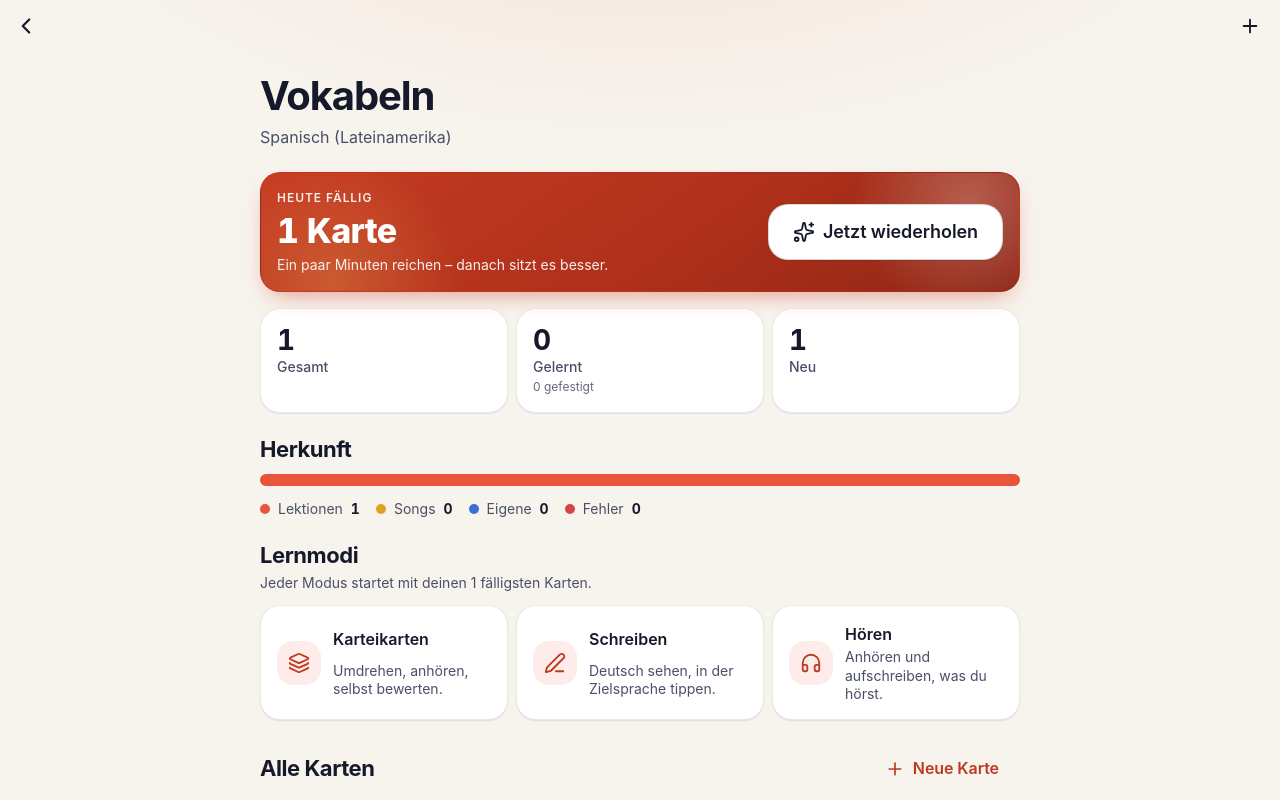
Scenario: Vokabeltrainer (Smoke) › Schreiben-Modus bewertet die Eingabe
Click the text "Schreiben".
click(628, 639)  # box [589,629,667,649]
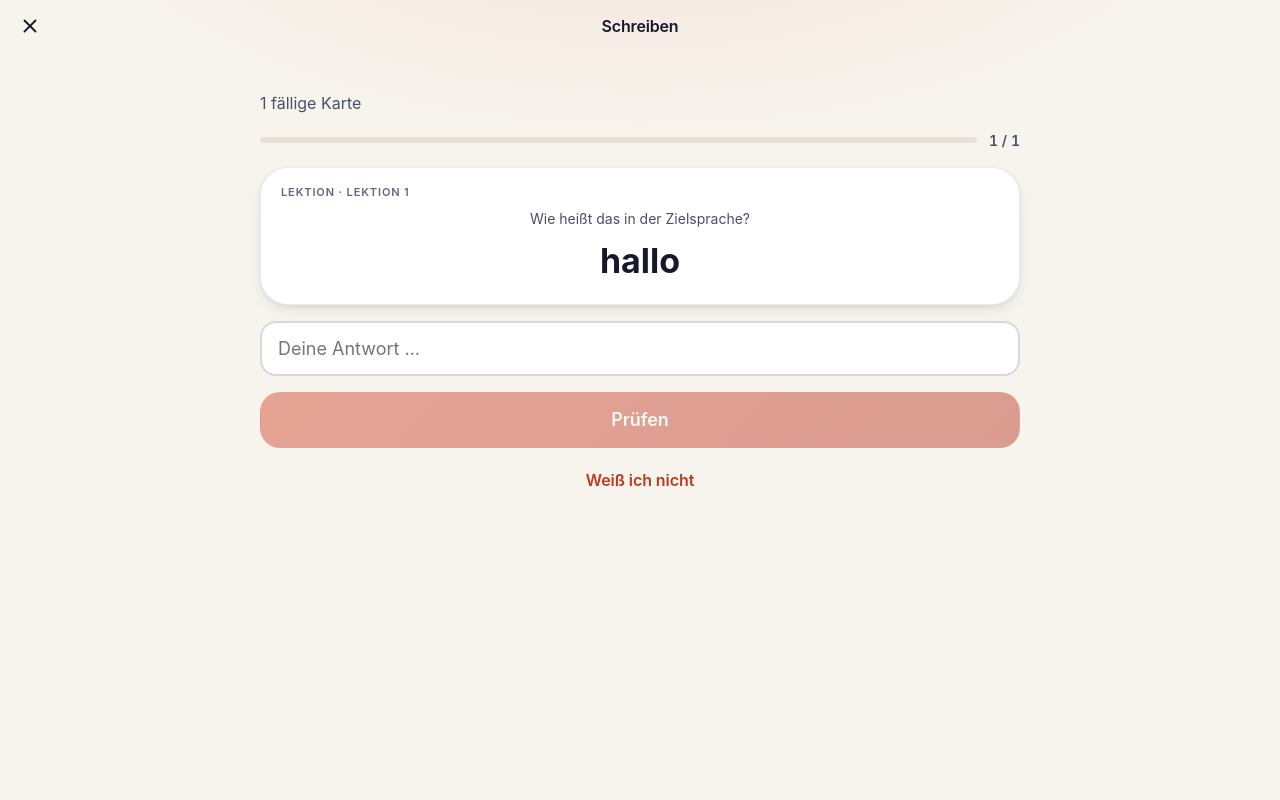
Type "hola" into the field with placeholder "Deine Antwort …".
click(640, 348); type("hola")  # box [260,321,1020,376]
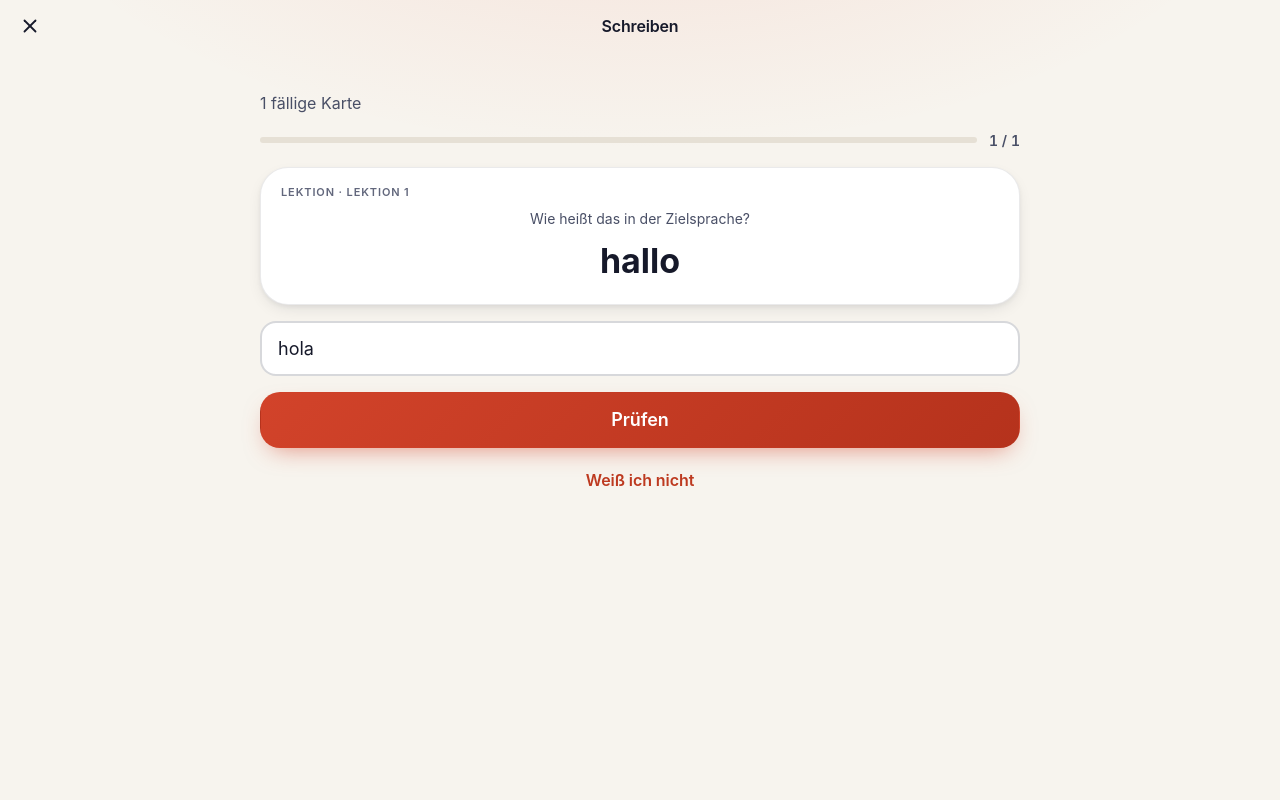
Press Enter in the field with placeholder "Deine Antwort …", box [260,321,1020,376]
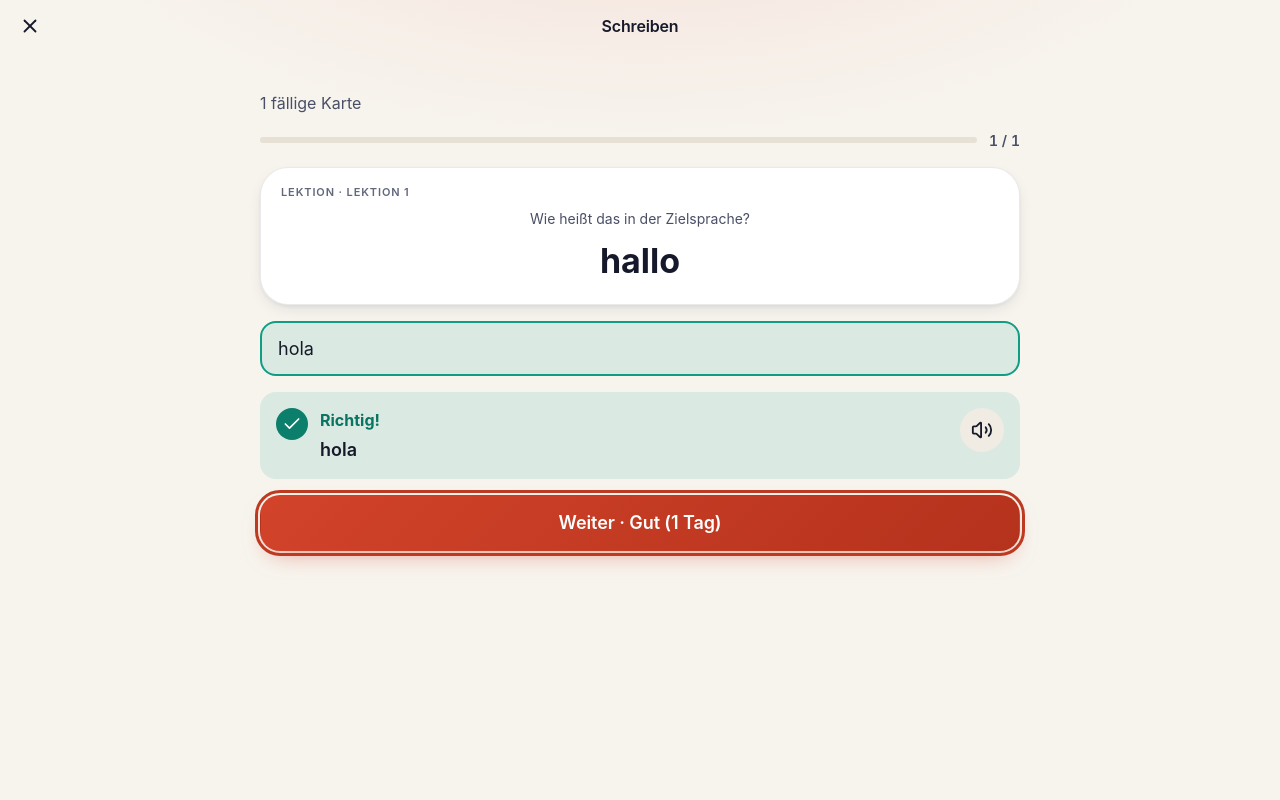
Expected: the text "Richtig!" is shown, [320,410,380,430]
